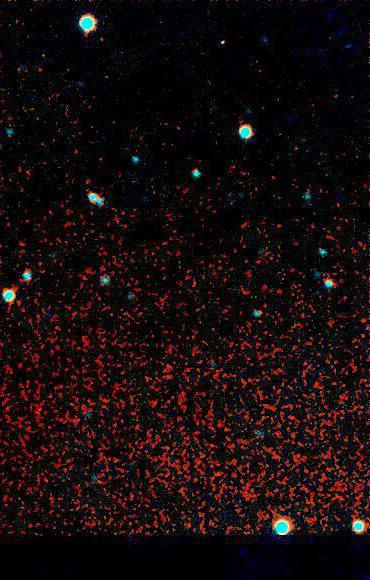star: (210, 19, 240, 49)
